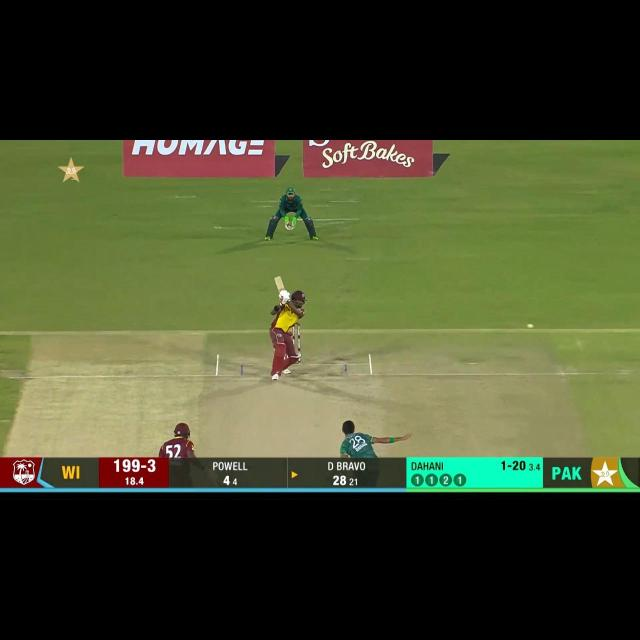bat: (272, 271, 286, 292)
toe: (274, 276, 282, 281)
